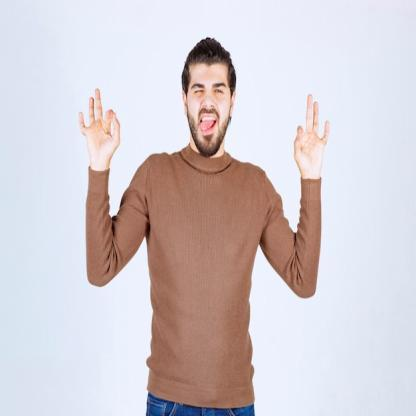ok: (75, 82, 124, 176), (289, 89, 332, 178)
